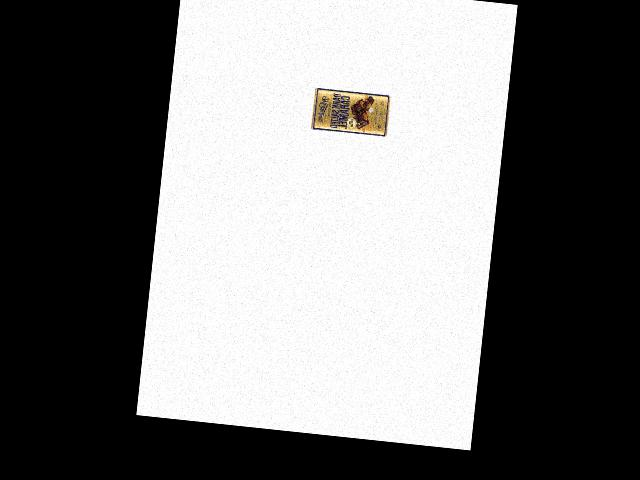chocolate: (311, 86, 392, 140)
